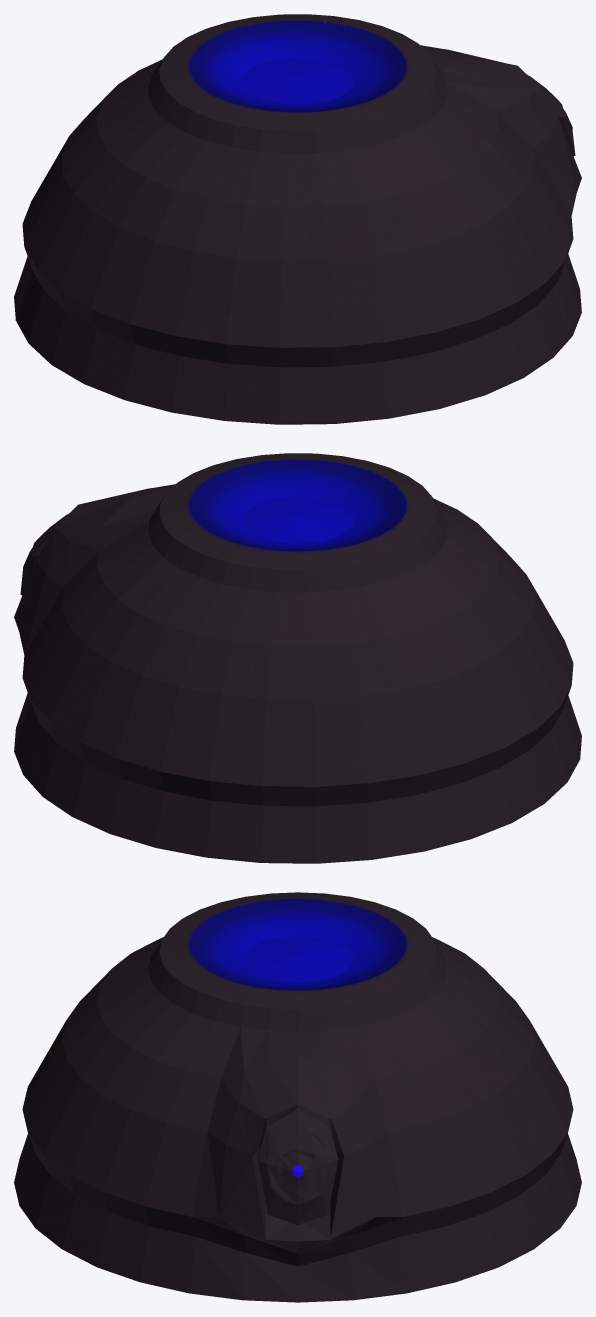
File: GuardianCore.obj
3 renders of one model, top to bottom at view 1: azimuth 30°, elevation 25°; view 2: azimuth 150°, elevation 25°; view 3: azimuth 270°, elevation 25°, orthographic.
Parts seen in each view (by area): view 1: Sphere; view 2: Sphere; view 3: Sphere.
Boxes of the visible parts, bbox=[...] form: Sphere: bbox=[14, 14, 581, 424]; Sphere: bbox=[14, 453, 581, 863]; Sphere: bbox=[14, 892, 581, 1302].
Bounding box in the file's own units: 189 × 83.15 × 180.
